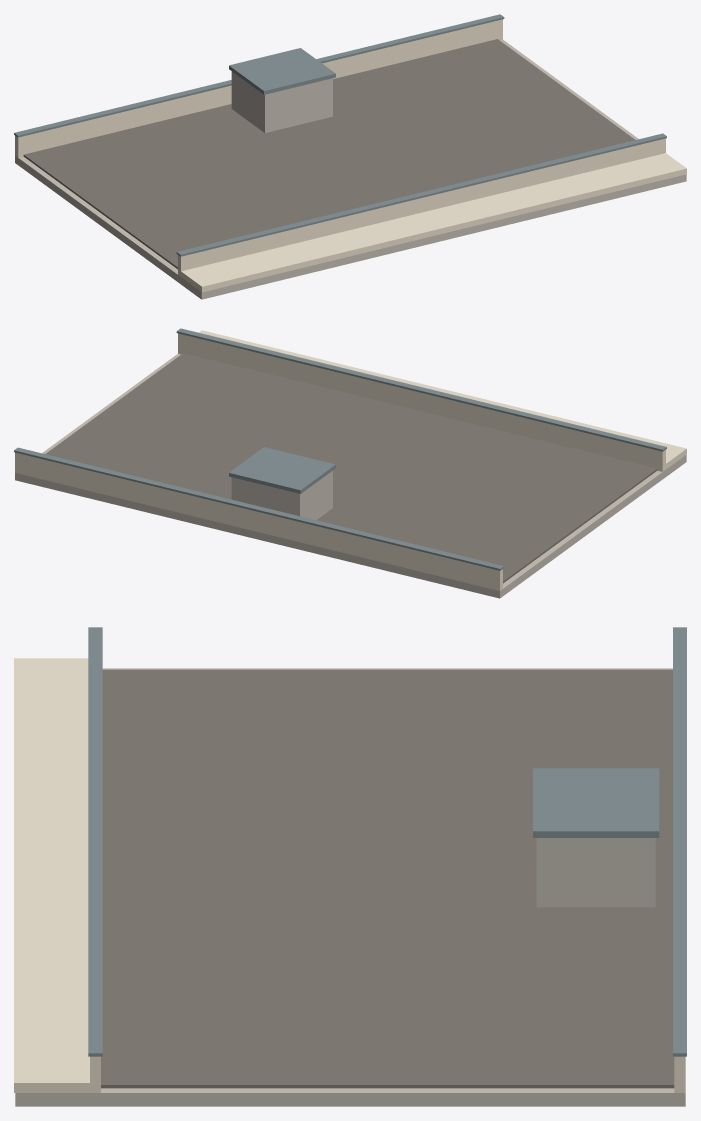
Rendered from tb_danchi_module_roof_01.fbx.
3 renders of one model, top to bottom at view 1: azimuth 30°, elevation 25°; view 2: azimuth 150°, elevation 25°; view 3: azimuth 270°, elevation 25°, orthographic. The views are drawn at different scales.
Visible parts, largest first — view 1: tb_danchi_module_roof_01; view 2: tb_danchi_module_roof_01; view 3: tb_danchi_module_roof_01.
Boxes of the visible parts, x1,y1,x2,y2 form: tb_danchi_module_roof_01: (14,14,686,299); tb_danchi_module_roof_01: (14,328,686,598); tb_danchi_module_roof_01: (14,627,686,1106).
Size of what is drawn, in the model's own units: 13.54 by 1.4 by 9.04.
1 material, 1 textured.
